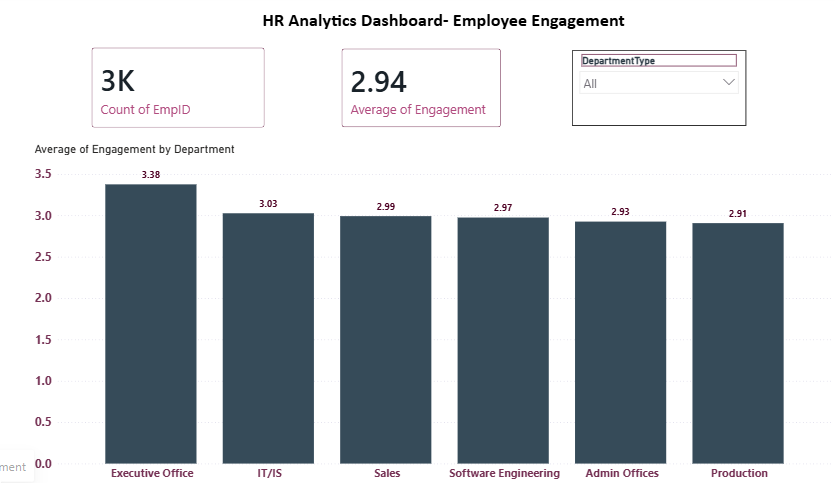

Layout of this report page (visuals, bound fields, positions):
{"tool":"powerbi","page":{"name":"Engagement","canvas":[1280,720],"ordinal":0},"visuals":[{"type":"cardVisual","fields":{"Data":["CountNonNull(employee_engagement_survey_data.EmpID)"]},"box":[141.1,60.5,287.2,151.2],"z":0},{"type":"cardVisual","fields":{"Data":["Avg(employee_engagement_survey_data.Engagement)"]},"box":[505.6,62.2,267.1,149.5],"z":1000},{"type":"clusteredColumnChart","title":"Average of Engagement by Department","fields":{"Category":["employee_data.DepartmentType"],"Y":["Avg(employee_engagement_survey_data.Engagement)"]},"box":[68.9,215,1179.2,505.6],"z":2000},{"type":"textbox","box":[403.1,15.1,613.1,47],"z":3000},{"type":"slicer","fields":{"Values":["employee_data.DepartmentType"]},"box":[860.1,80.6,255.3,110.9],"z":3001}]}

Visuals, with their boxes in screenshot pixels (x1, y1, x2, y2), scaled from the page's 1280x720 canvas onto the 835x483 screenshot:
cardVisual - CountNonNull(employee_engagement_survey_data.EmpID): region(92, 41, 279, 142)
cardVisual - Avg(employee_engagement_survey_data.Engagement): region(330, 42, 504, 142)
"Average of Engagement by Department" clusteredColumnChart: region(45, 144, 814, 482)
textbox: region(263, 10, 663, 42)
slicer - employee_data.DepartmentType: region(561, 54, 728, 128)
